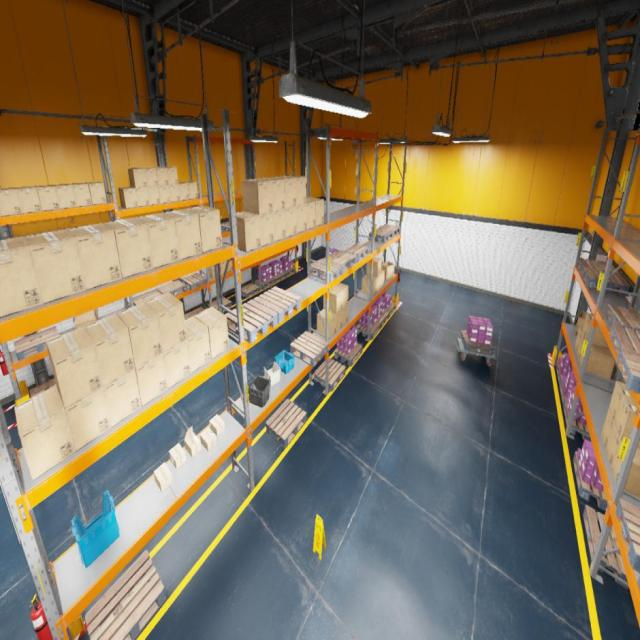box: (14, 386, 75, 480), (23, 230, 86, 304), (46, 327, 102, 408), (66, 223, 122, 290), (84, 314, 135, 387), (0, 237, 42, 318), (116, 302, 163, 368), (103, 218, 153, 278), (65, 387, 111, 452), (144, 292, 187, 352), (134, 214, 179, 269), (102, 369, 142, 428), (160, 209, 202, 259), (184, 205, 222, 252), (194, 307, 229, 358), (135, 352, 168, 406), (611, 441, 640, 497), (185, 316, 211, 372), (614, 394, 640, 449), (163, 340, 190, 388), (229, 212, 261, 252), (580, 344, 614, 378), (242, 179, 272, 215), (608, 381, 632, 423), (581, 312, 608, 348), (577, 334, 609, 362), (258, 178, 284, 212), (269, 177, 296, 209), (15, 186, 42, 214), (282, 176, 306, 206), (35, 185, 60, 211), (0, 187, 22, 216), (606, 424, 620, 468), (317, 308, 336, 339), (52, 184, 76, 208), (69, 182, 92, 206), (601, 409, 614, 451), (184, 425, 201, 457), (84, 182, 107, 205), (154, 462, 172, 491), (306, 197, 324, 226), (323, 287, 342, 314), (259, 212, 274, 246), (73, 309, 99, 328), (169, 443, 186, 469), (273, 209, 286, 242), (127, 167, 147, 188), (119, 186, 138, 208), (200, 428, 217, 452), (334, 282, 348, 308), (209, 414, 225, 436), (285, 206, 296, 237), (362, 274, 377, 296), (574, 311, 587, 336), (140, 168, 158, 186), (306, 200, 316, 230), (296, 203, 306, 233), (366, 258, 382, 276), (153, 167, 168, 186), (183, 182, 198, 199), (136, 188, 150, 206), (147, 186, 160, 205), (381, 262, 394, 280), (368, 274, 381, 292), (165, 167, 178, 184), (159, 185, 170, 204), (574, 327, 582, 353), (178, 183, 190, 200), (169, 184, 180, 202), (342, 304, 348, 327), (337, 310, 342, 333), (220, 261, 227, 275), (226, 260, 233, 272), (209, 265, 215, 278), (380, 270, 384, 288), (25, 232, 43, 236), (6, 236, 24, 239), (43, 230, 60, 232), (0, 211, 1, 217)
pallets: (84, 550, 166, 639), (584, 505, 628, 590), (225, 299, 277, 344), (574, 452, 608, 511), (266, 399, 306, 448), (253, 286, 300, 324), (616, 498, 640, 572), (14, 327, 60, 361), (582, 268, 631, 296), (290, 332, 328, 367), (605, 304, 640, 336), (564, 401, 591, 442), (314, 358, 345, 392), (610, 323, 640, 358), (617, 348, 640, 393), (576, 257, 620, 277), (461, 330, 494, 355), (311, 258, 345, 282), (324, 251, 357, 271), (334, 343, 362, 366), (356, 320, 381, 340), (30, 378, 56, 397), (181, 273, 207, 291), (133, 289, 162, 305), (344, 244, 369, 262), (156, 281, 186, 296), (369, 228, 393, 242), (207, 297, 231, 310), (378, 224, 400, 237), (241, 283, 259, 298), (556, 362, 567, 386), (374, 311, 389, 328), (184, 307, 205, 319), (382, 302, 396, 318), (255, 278, 275, 288), (559, 379, 566, 406), (272, 272, 286, 282), (282, 268, 296, 277), (220, 221, 230, 233), (637, 575, 640, 592), (221, 228, 222, 234)
